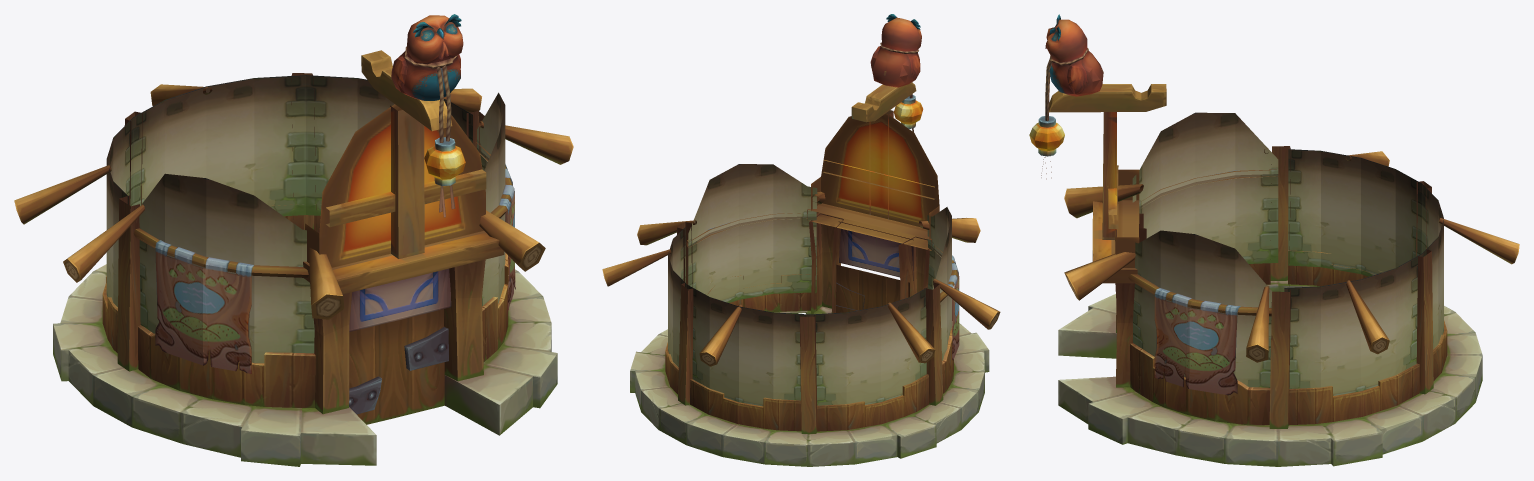
The model's file is map_1002_caowu_02_a.FBX.
3 views of the same model, side by side, from view 1: azimuth 30°, elevation 25°; view 2: azimuth 150°, elevation 25°; view 3: azimuth 270°, elevation 25° (orthographic). The views are drawn at different scales.
Visible parts, largest first — view 1: map_1002_caowu_02_a; view 2: map_1002_caowu_02_a; view 3: map_1002_caowu_02_a.
Boxes of the visible parts, bbox=[...] form: map_1002_caowu_02_a: bbox=[14, 14, 573, 466]; map_1002_caowu_02_a: bbox=[602, 14, 1000, 466]; map_1002_caowu_02_a: bbox=[1029, 14, 1519, 466].
Size of the model in its own units: 8.27 by 6.81 by 8.41.
